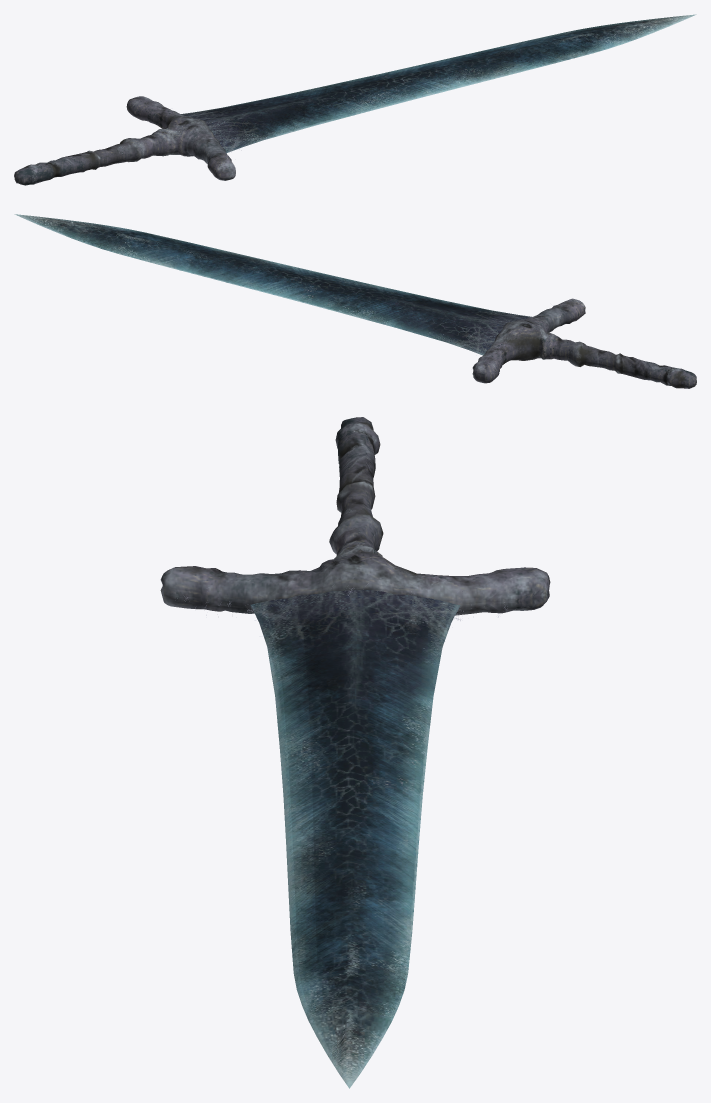
The model's file is darkmoongreatsword.fbx.
The picture shows the model from 3 angles, top to bottom: view 1: azimuth 30°, elevation 25°; view 2: azimuth 150°, elevation 25°; view 3: azimuth 270°, elevation 25°; orthographic projection. The views are drawn at different scales.
Visible parts, largest first — view 1: WP_A_0617.001, WP_A_0617; view 2: WP_A_0617.001, WP_A_0617; view 3: WP_A_0617.001, WP_A_0617.
Boxes of the visible parts, bbox=[...] form: WP_A_0617.001: bbox=[180, 14, 696, 152]; WP_A_0617: bbox=[14, 96, 235, 185]; WP_A_0617.001: bbox=[14, 214, 531, 355]; WP_A_0617: bbox=[472, 298, 696, 388]; WP_A_0617.001: bbox=[250, 590, 460, 1088]; WP_A_0617: bbox=[160, 417, 550, 615].
Bounding box in the file's own units: 232 × 10.87 × 57.57.
4 materials, 4 textured.
